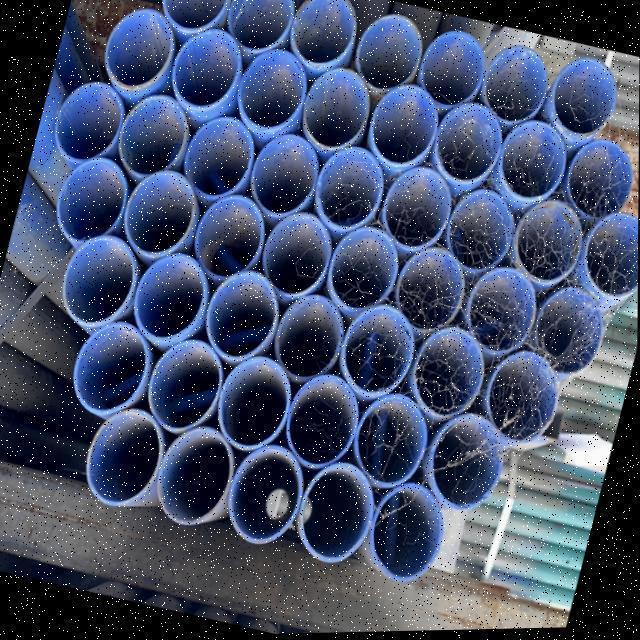pipe: (73, 399, 178, 518), (145, 417, 244, 538), (215, 436, 313, 557), (286, 454, 384, 575), (415, 407, 515, 523), (358, 477, 454, 594), (62, 311, 159, 426), (120, 242, 217, 357), (50, 223, 145, 340), (329, 297, 426, 410), (193, 262, 290, 374), (274, 367, 369, 481), (474, 344, 569, 457), (344, 385, 438, 499), (207, 348, 301, 461), (400, 321, 494, 432), (136, 331, 229, 443), (224, 37, 317, 146), (262, 286, 356, 393), (112, 161, 206, 268), (249, 201, 340, 310), (385, 239, 477, 346), (522, 280, 614, 387), (182, 184, 273, 291), (356, 76, 448, 181), (317, 219, 408, 325), (501, 193, 593, 296), (420, 95, 512, 198), (106, 87, 197, 191), (46, 149, 136, 254), (292, 58, 382, 162), (305, 138, 394, 242), (455, 262, 545, 364), (436, 180, 524, 284), (174, 106, 263, 208), (371, 159, 459, 262), (540, 51, 628, 151), (470, 35, 558, 135), (240, 126, 326, 228), (162, 22, 251, 120), (487, 114, 576, 212), (44, 71, 130, 172), (407, 21, 495, 119), (94, 0, 181, 99), (556, 133, 640, 234), (345, 5, 430, 102), (573, 206, 639, 309), (282, 0, 363, 76), (217, 0, 301, 61), (153, 0, 235, 39)
